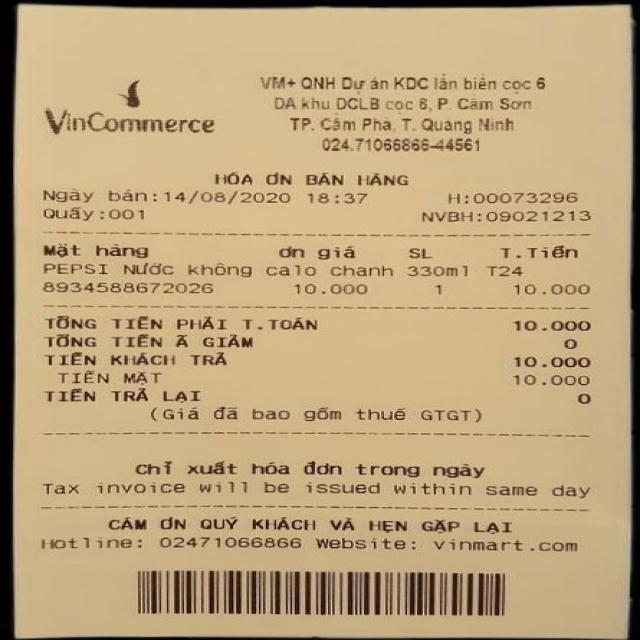Date: (160, 186, 297, 207)
Store_Name: (19, 63, 258, 149)
amount_number: (508, 313, 593, 337)
label_total: (41, 313, 324, 333)
